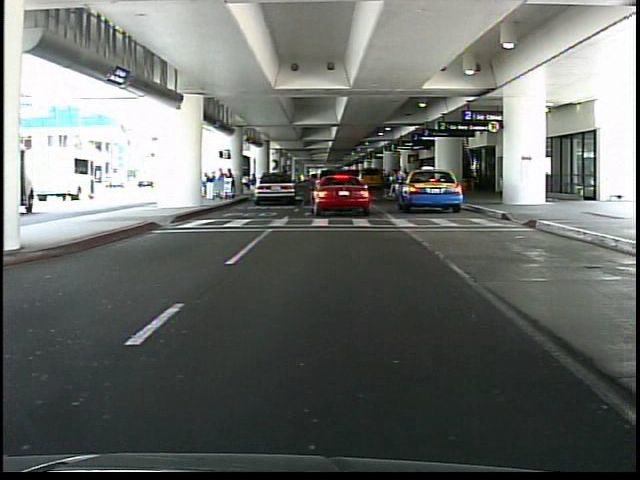person: (279, 165, 293, 203)
